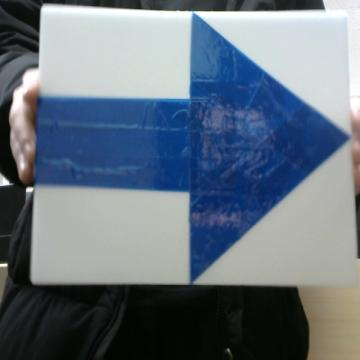blue_right: (35, 14, 349, 280)
